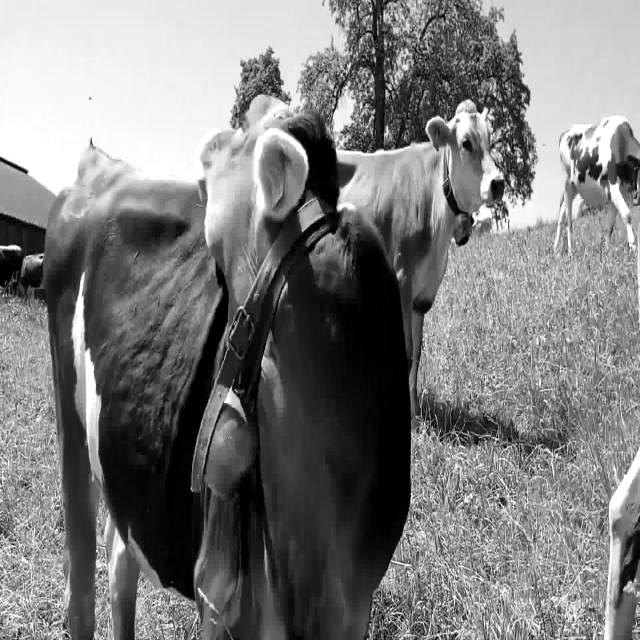COW: (45, 98, 409, 640), (338, 100, 504, 409), (554, 116, 640, 253)
